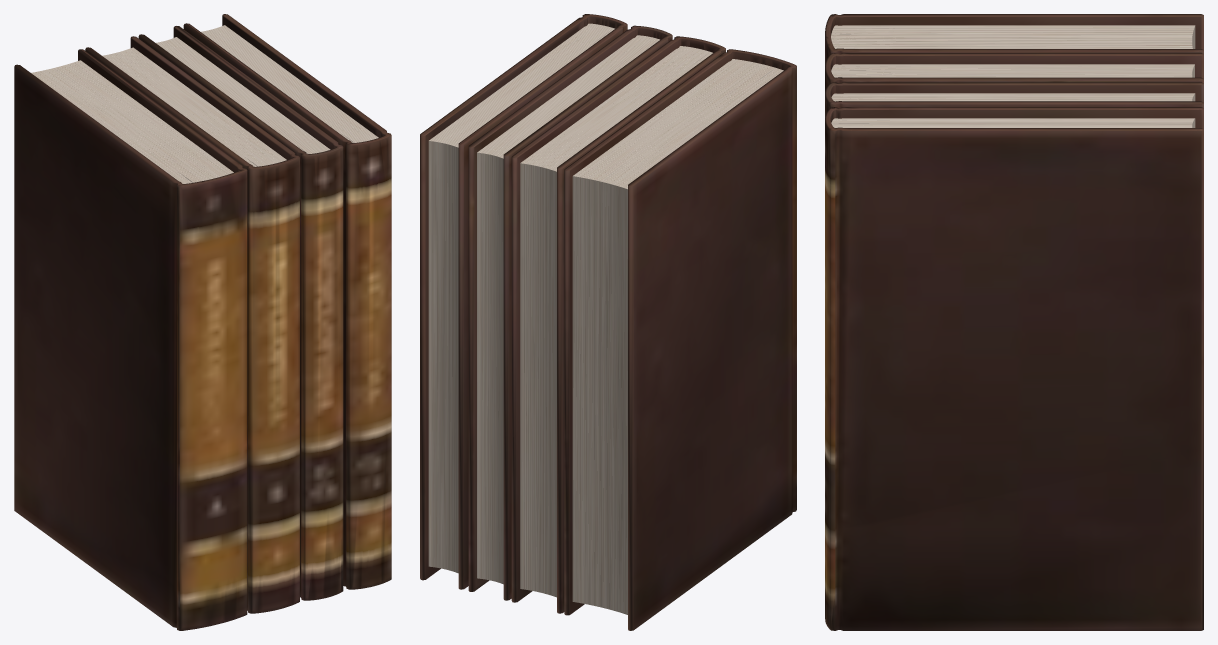
The model's file is books_row_04.glb.
3 views of the same model, side by side, from view 1: azimuth 30°, elevation 25°; view 2: azimuth 150°, elevation 25°; view 3: azimuth 270°, elevation 25° (orthographic). The views are drawn at different scales.
Parts seen in each view (by area): view 1: book_encyclopedia_set_01_book01; view 2: book_encyclopedia_set_01_book01; view 3: book_encyclopedia_set_01_book01.
Part boxes in pixels (x1=…): book_encyclopedia_set_01_book01: x1=14, y1=14, x2=391, y2=630; book_encyclopedia_set_01_book01: x1=420, y1=14, x2=796, y2=630; book_encyclopedia_set_01_book01: x1=825, y1=14, x2=1203, y2=630.
Size of the model in its own units: 0.1193 by 0.2374 by 0.1631.
2 materials, 2 textured.
